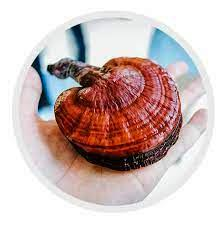Ganoderma - Fruit Body: (47, 56, 184, 171)
